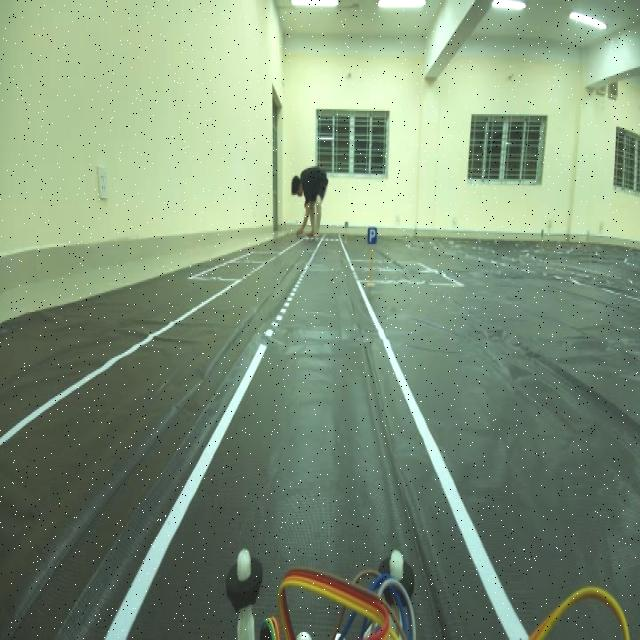parking: (364, 217, 378, 255)
